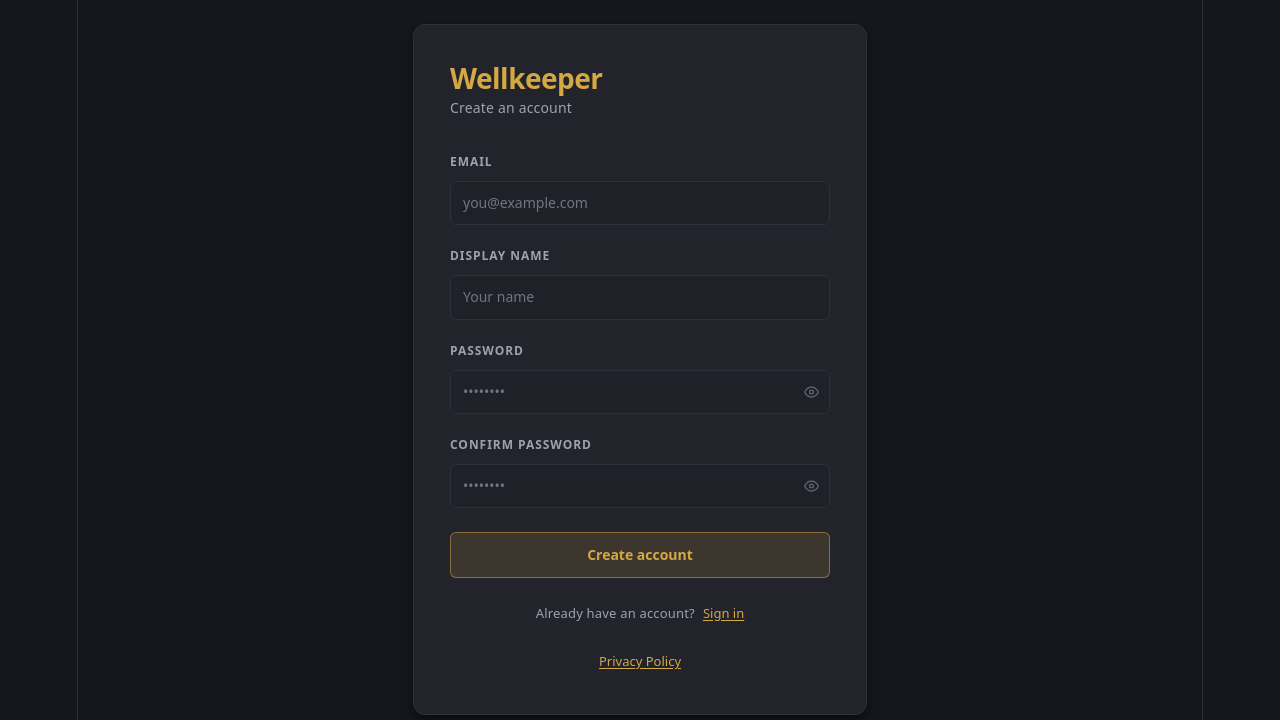
Scenario: RegisterPage › shows a success message after successful registration
In the field labelled "Email": (640, 203) [450,181,830,225], type "new@example.com"
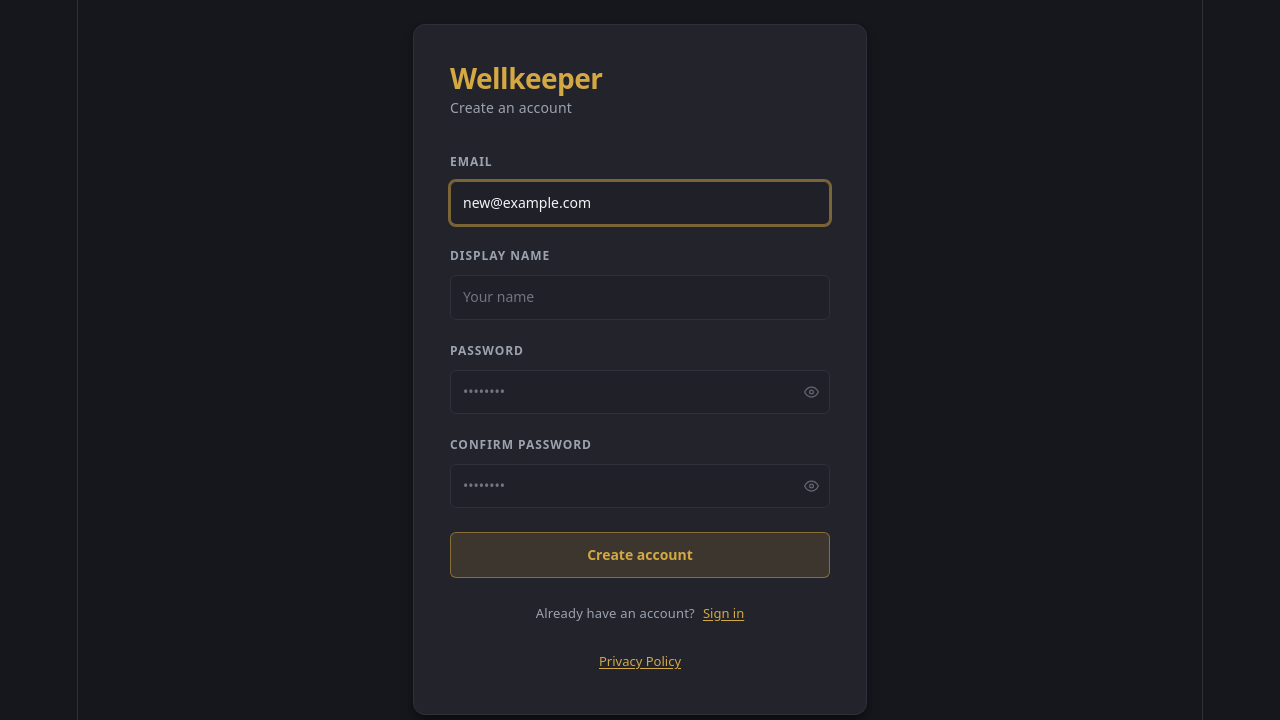
In the field labelled "Display name": (640, 298) [450,276,830,320], type "New User"
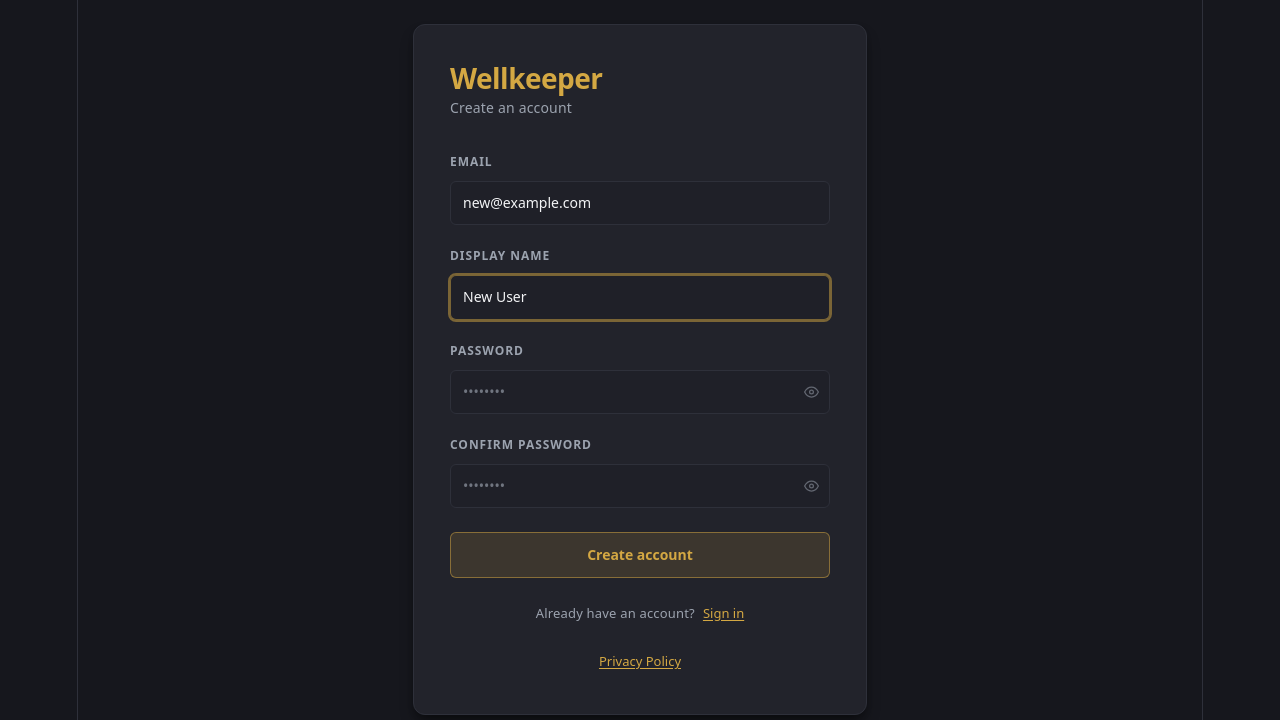
In the password field labelled "Password": (640, 392) [450,370,830,414], type "pass123"
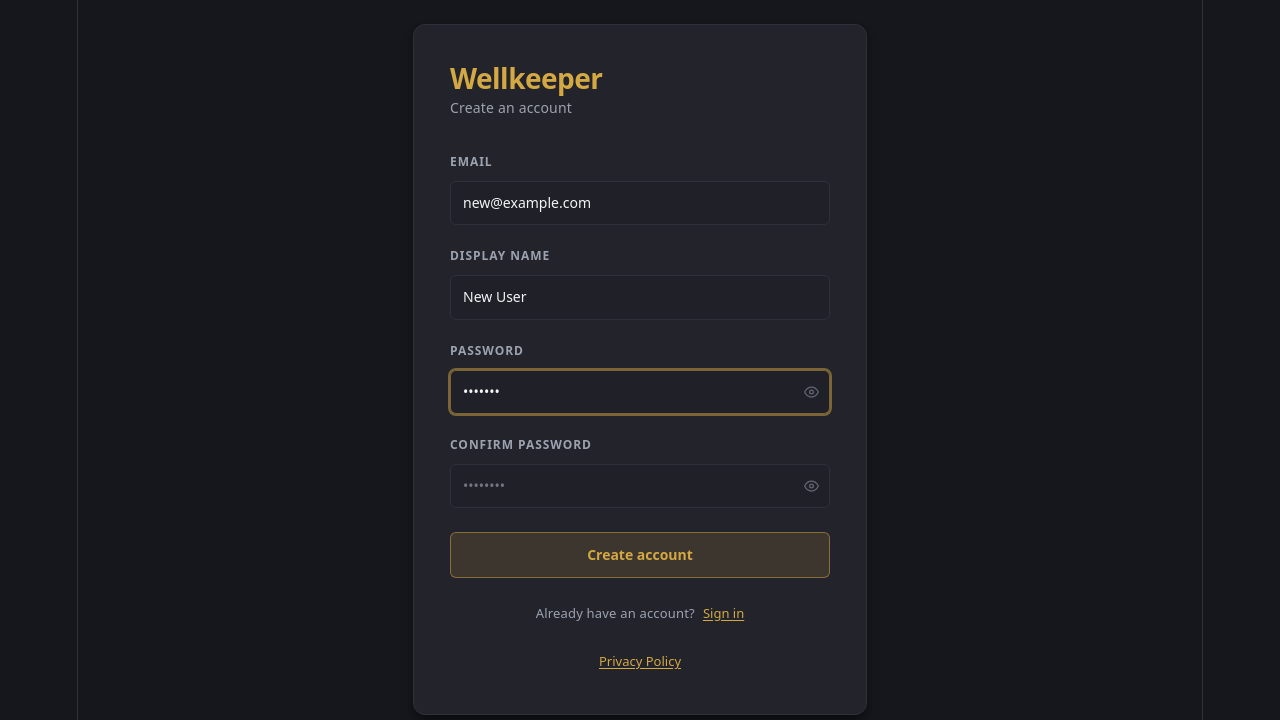
In the password field labelled "Confirm Password": (640, 486) [450,464,830,508], type "pass123"
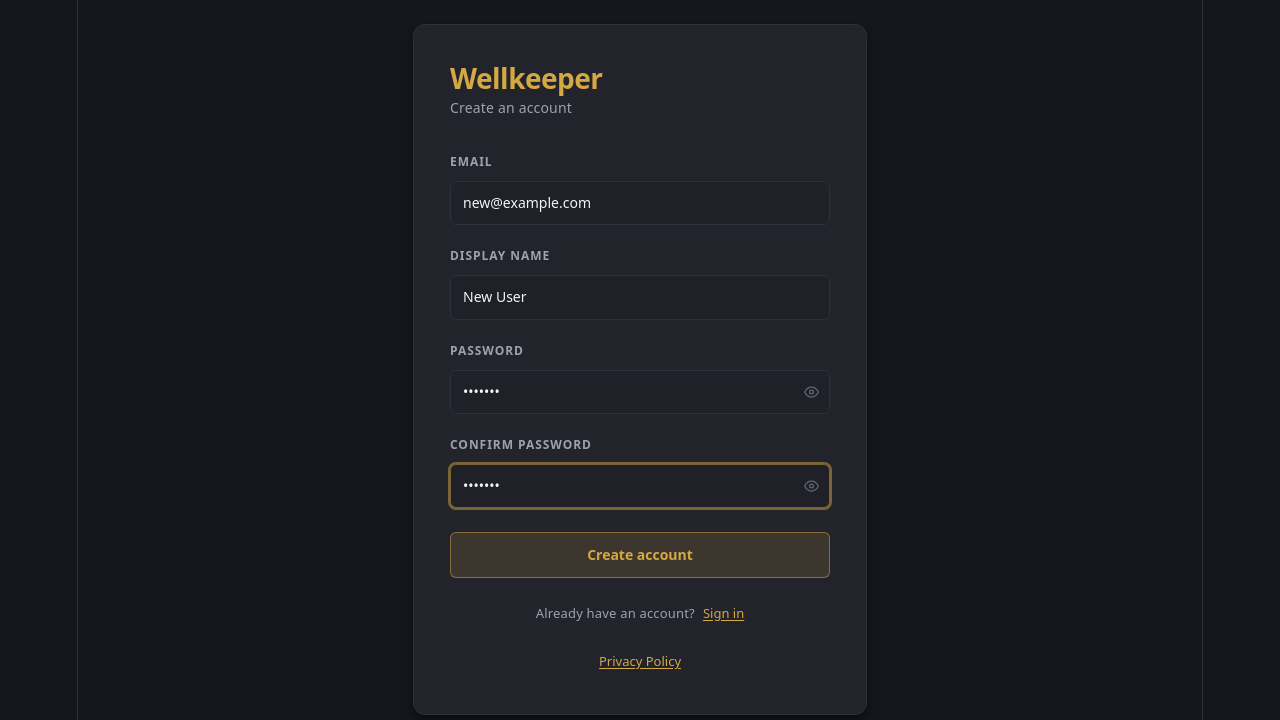
Click the button "Create account": (640, 555) [450,532,830,578]
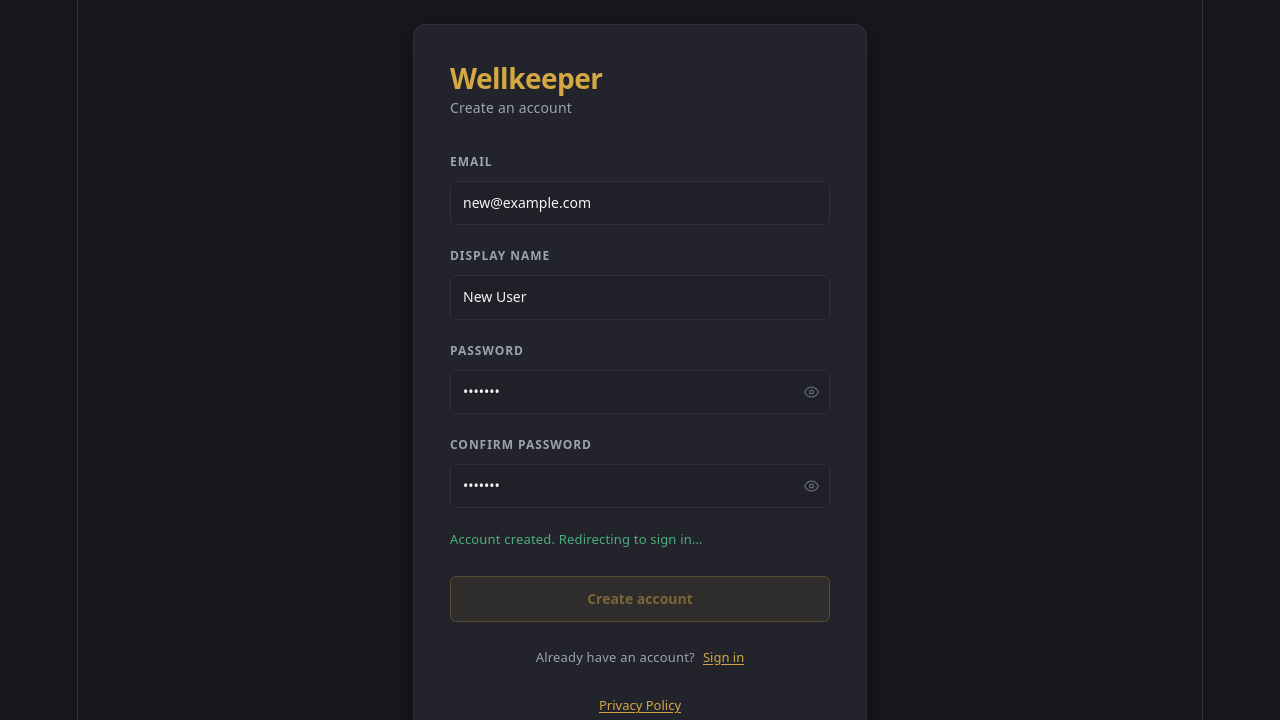
Check: the message shows "Account created", box [450,530,702,548]
